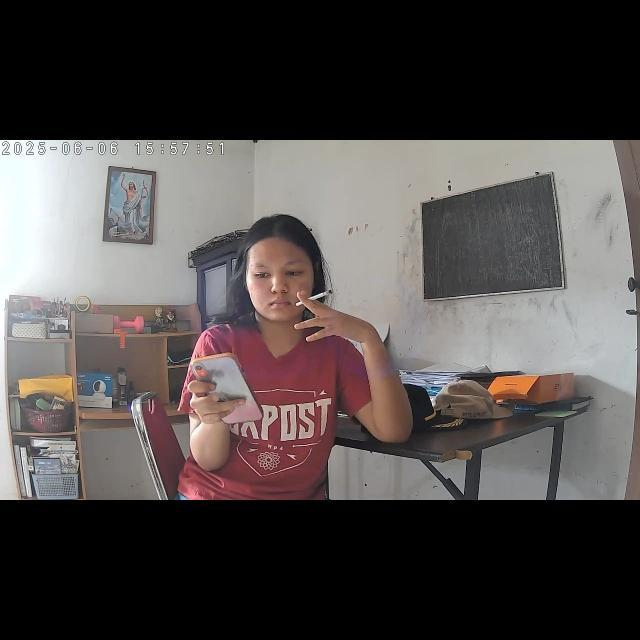rokok: (294, 288, 334, 310)
